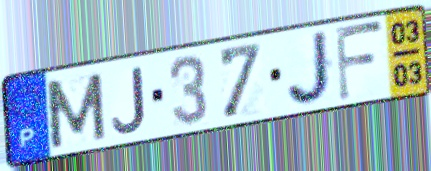3: (167, 52, 211, 129)
7: (217, 42, 266, 123)
F: (333, 18, 387, 104)
J: (284, 28, 336, 108), (110, 64, 148, 135)
M: (42, 70, 109, 152)
